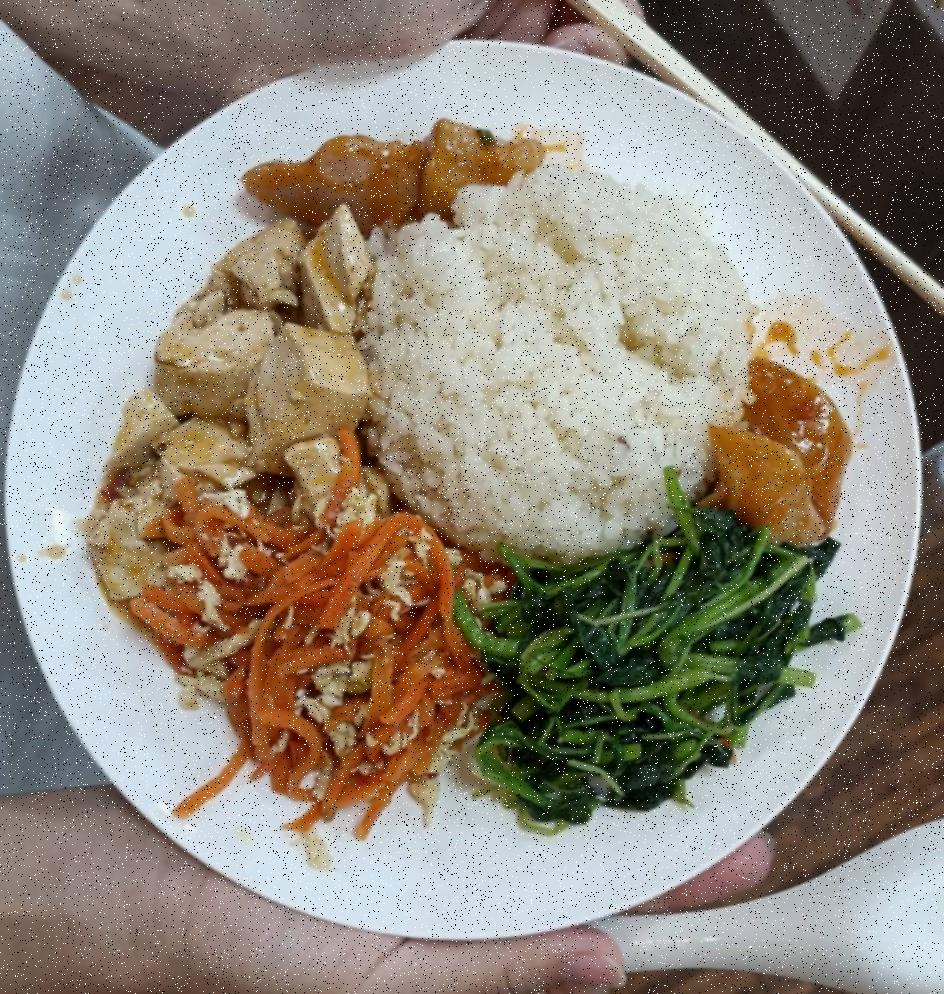big fried chicken leg: (2, 48, 926, 955)
big herbal chicken leg: (362, 185, 756, 548)
braised fish fillet: (454, 526, 826, 816), (178, 458, 438, 810), (88, 218, 374, 517), (243, 115, 556, 223), (716, 350, 853, 540)
